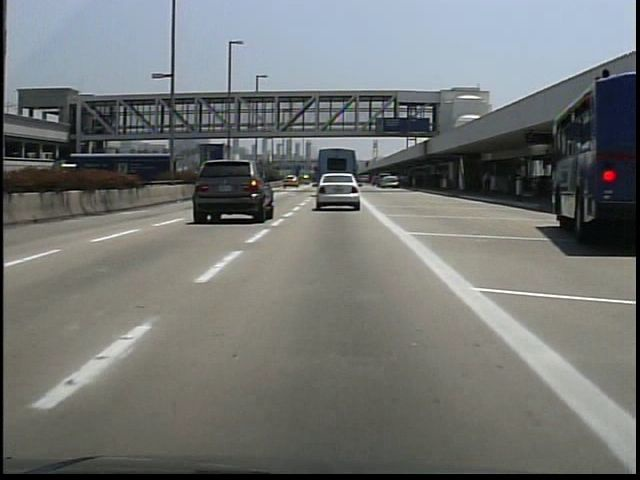person: (478, 165, 499, 202)
